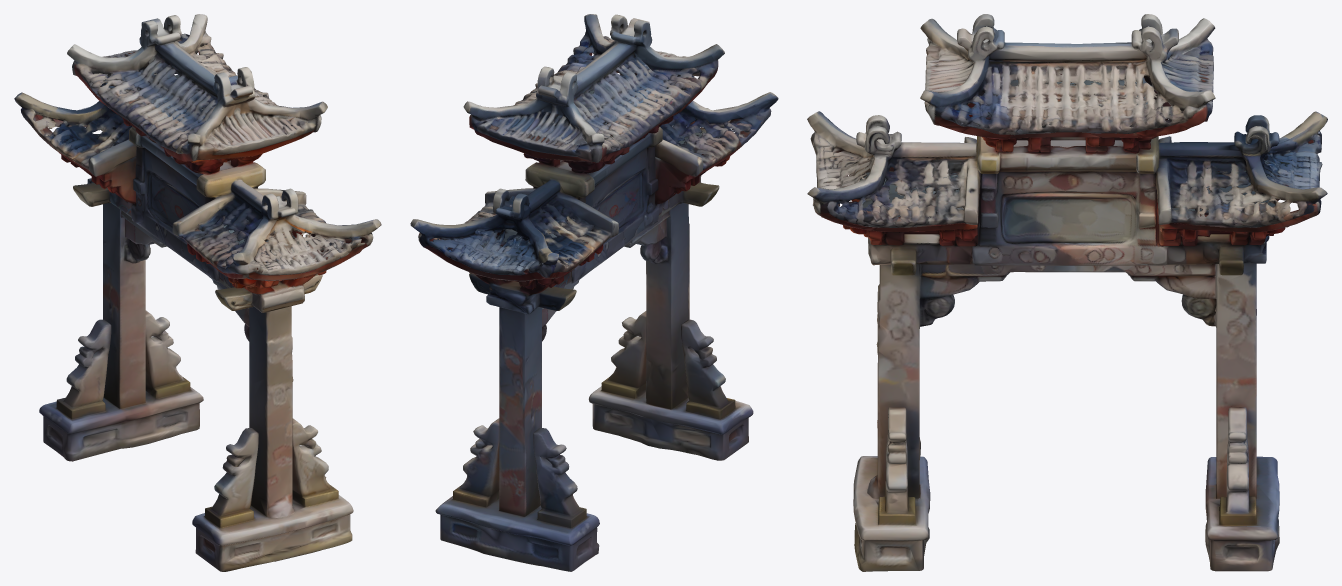
The model's file is city-gate-paifang.glb.
The picture shows the model from 3 angles, left to right: view 1: azimuth 30°, elevation 25°; view 2: azimuth 150°, elevation 25°; view 3: azimuth 270°, elevation 25°; orthographic projection. The views are drawn at different scales.
Visible parts, largest first — view 1: tripo_node_c9999a14-6c16-4ad9-9a43-d33b245e2360; view 2: tripo_node_c9999a14-6c16-4ad9-9a43-d33b245e2360; view 3: tripo_node_c9999a14-6c16-4ad9-9a43-d33b245e2360.
Part boxes in pixels (x1,y1,x2,y2): tripo_node_c9999a14-6c16-4ad9-9a43-d33b245e2360: (14, 14, 381, 571); tripo_node_c9999a14-6c16-4ad9-9a43-d33b245e2360: (410, 14, 778, 571); tripo_node_c9999a14-6c16-4ad9-9a43-d33b245e2360: (807, 14, 1327, 571).
Size of the model in its own units: 3.12 by 9 by 8.27.
Materials: 1 (1 with a texture image).
